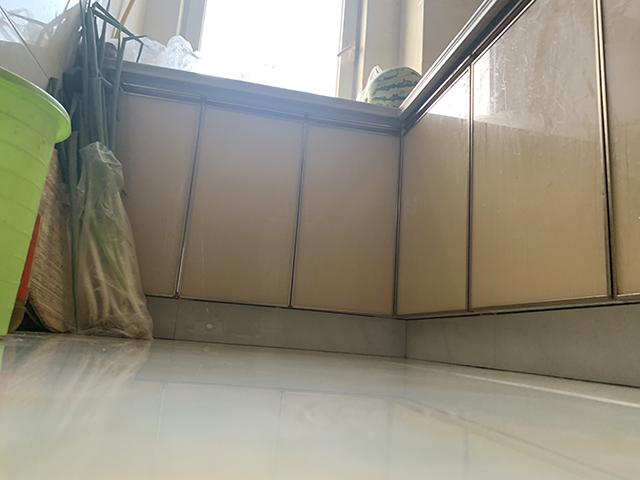cabinet: (403, 1, 640, 381), (169, 73, 406, 357)
